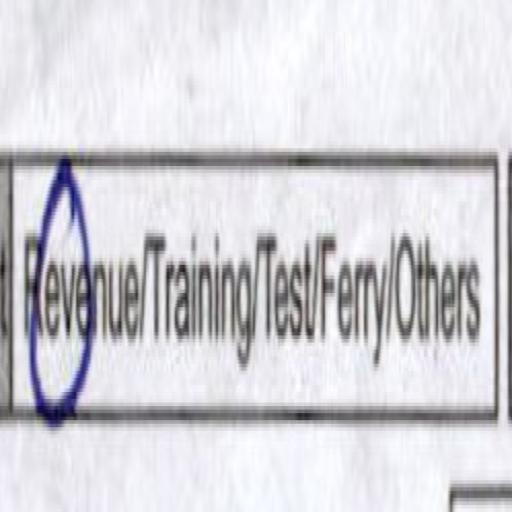check: (17, 111, 143, 443)
